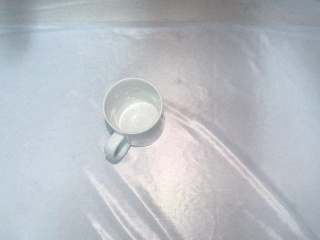cup: (103, 77, 163, 163)
